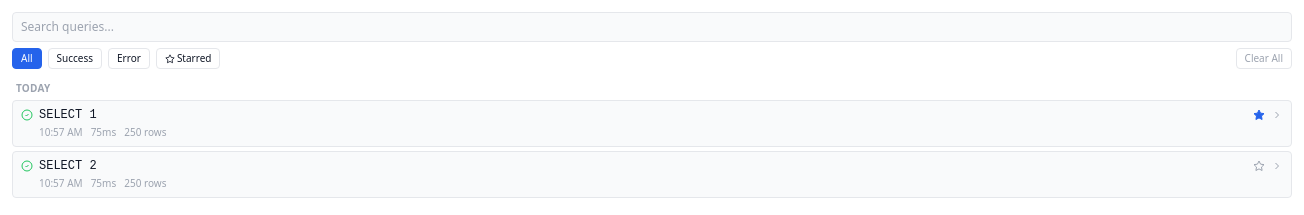
Scenario: QHP-8: Starred filter shows only starred entries › toggles starred filter off when clicked again
// Enable starred filter
Click the button with test id "query-history-filter-starred" at (188, 58), box [156, 48, 220, 69]
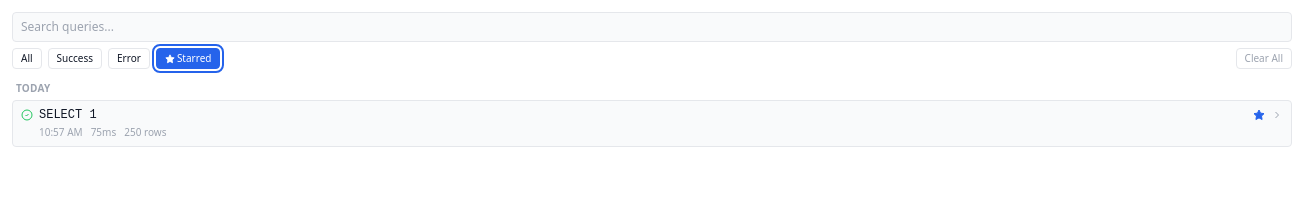
Expected: the number of elements with test id "query-history-entry" is 1, [12, 100, 1292, 147]
// Disable starred filter
Click the button with test id "query-history-filter-starred" at (188, 58), box [156, 48, 220, 69]
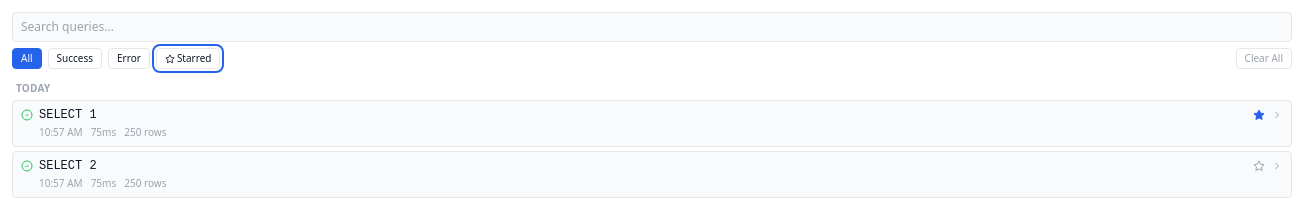
Expected: the number of elements with test id "query-history-entry" is 2, [12, 100, 1292, 147]; [12, 151, 1292, 198]
